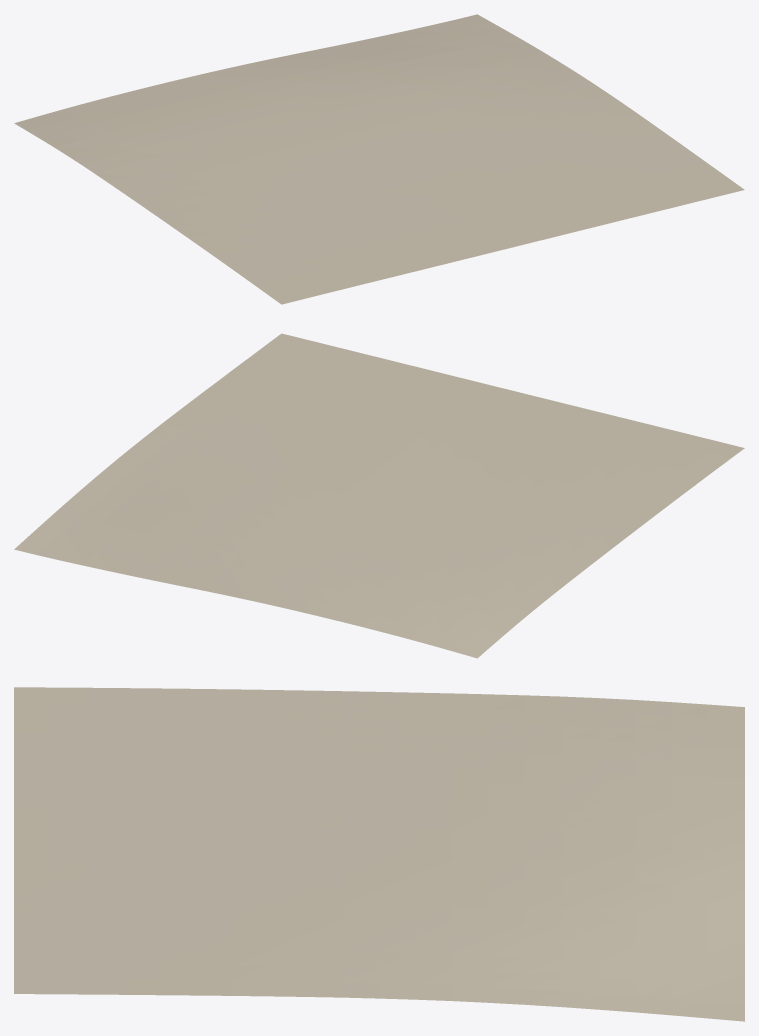
File: bolak_-33_-5.glb
3 renders of one model, top to bottom at view 1: azimuth 30°, elevation 25°; view 2: azimuth 150°, elevation 25°; view 3: azimuth 270°, elevation 25°, orthographic. The views are drawn at different scales.
Parts seen in each view (by area): view 1: Yer_Tuproq-col; view 2: Yer_Tuproq-col; view 3: Yer_Tuproq-col.
Part boxes in pixels (x1,y1,x2,y2): Yer_Tuproq-col: (14,14,744,304); Yer_Tuproq-col: (14,333,744,658); Yer_Tuproq-col: (14,687,744,1021).
Bounding box in the file's own units: 400 × 16.7 × 400.
